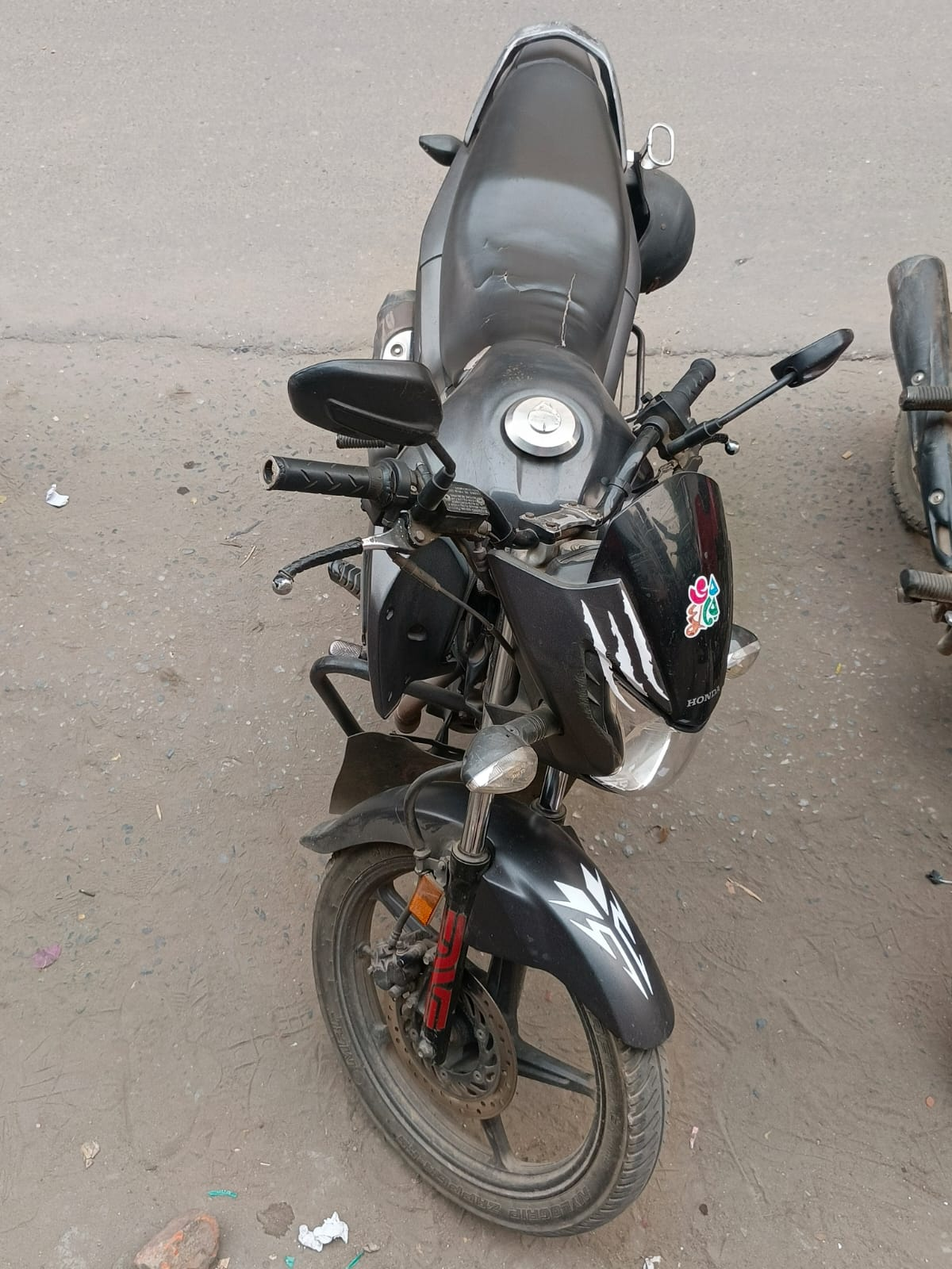Bikes: (246, 5, 854, 1269)
